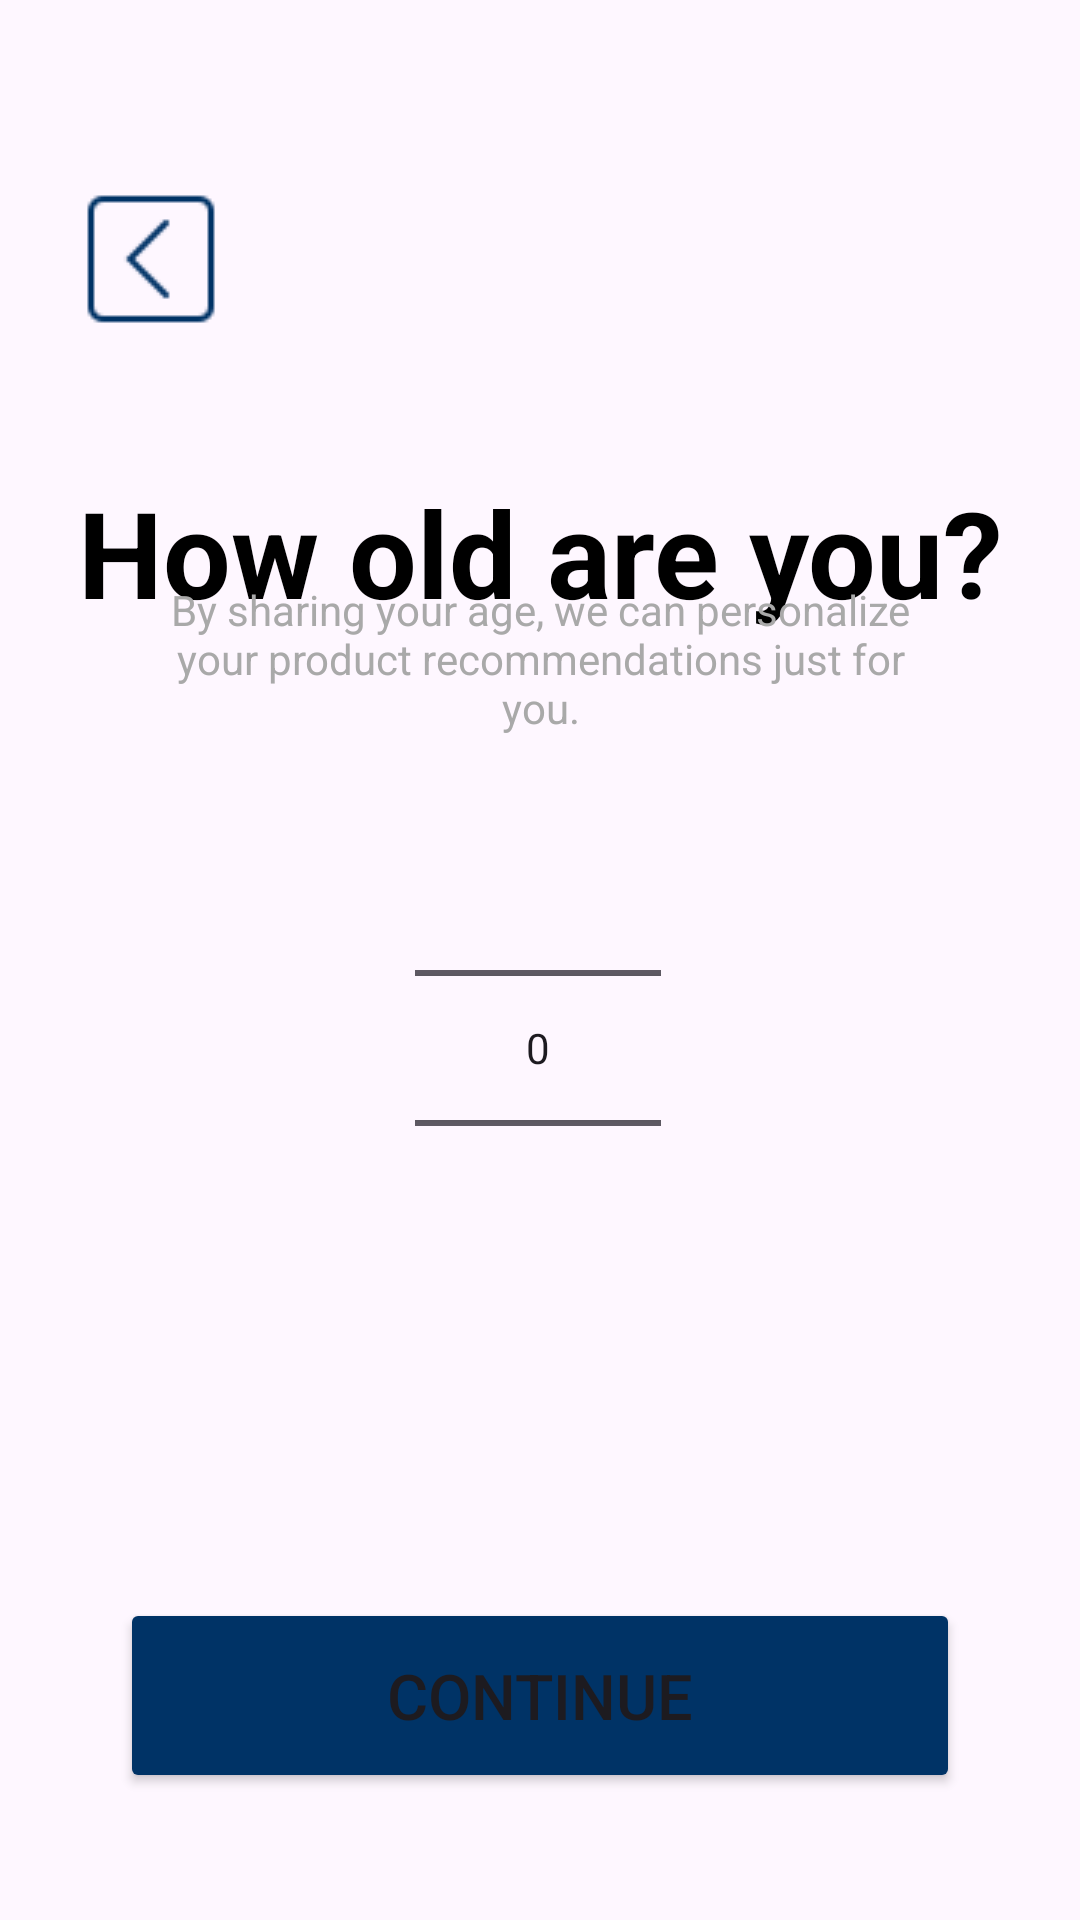

Screen size 1080×1920. Icon name, then its box in pixels as (x1, y1, x2, y2):
back button: (87, 195, 215, 323)
